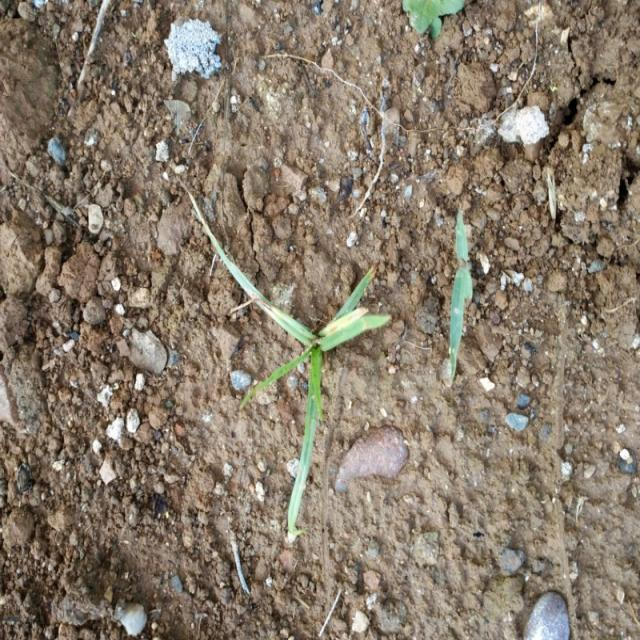sedge: (198, 241, 418, 532)
